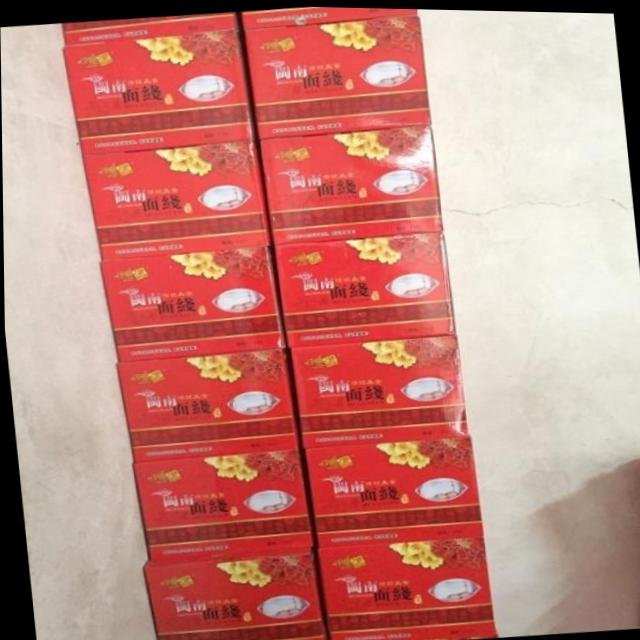box: (240, 15, 432, 140), (62, 29, 252, 154), (256, 121, 440, 246), (78, 142, 270, 259), (267, 229, 454, 349), (98, 243, 284, 361), (112, 346, 299, 462), (299, 435, 482, 546), (287, 334, 467, 446), (134, 447, 312, 559), (316, 534, 499, 640), (141, 546, 327, 640), (61, 13, 240, 45), (239, 6, 419, 29)
